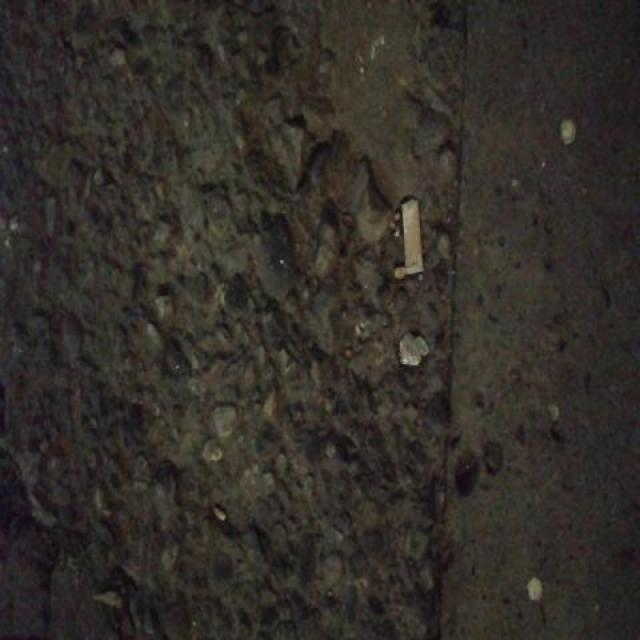non-organic waste: (396, 196, 431, 281)
